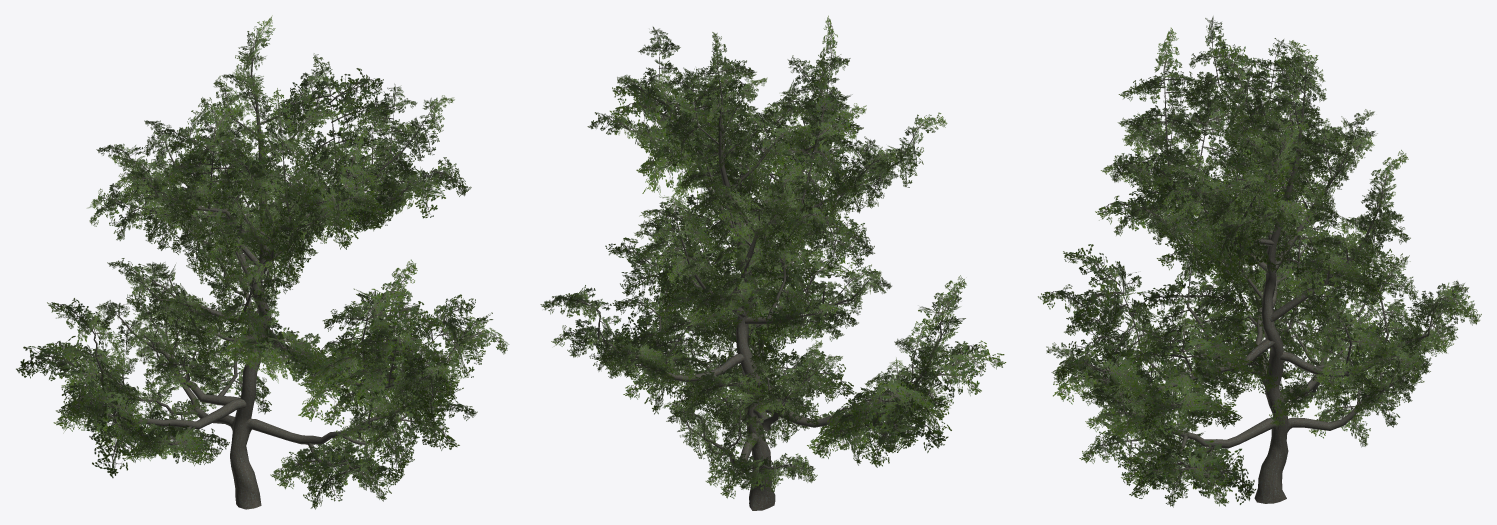
Rendered from TreeBig.glb.
The picture shows the model from 3 angles, left to right: view 1: azimuth 30°, elevation 25°; view 2: azimuth 150°, elevation 25°; view 3: azimuth 270°, elevation 25°; orthographic projection.
Visible parts, largest first — view 1: Large_oak_tree_002_LOD0.005_Cluster_Mat_0, Large_oak_tree_002_LOD0.005_Bark_Mat_0; view 2: Large_oak_tree_002_LOD0.005_Cluster_Mat_0, Large_oak_tree_002_LOD0.005_Bark_Mat_0; view 3: Large_oak_tree_002_LOD0.005_Cluster_Mat_0, Large_oak_tree_002_LOD0.005_Bark_Mat_0.
Part boxes in pixels (box(x1,y1,x2,y2)): Large_oak_tree_002_LOD0.005_Cluster_Mat_0: box(16, 15, 509, 509); Large_oak_tree_002_LOD0.005_Bark_Mat_0: box(77, 45, 470, 509); Large_oak_tree_002_LOD0.005_Cluster_Mat_0: box(540, 15, 1006, 498); Large_oak_tree_002_LOD0.005_Bark_Mat_0: box(587, 48, 944, 510); Large_oak_tree_002_LOD0.005_Cluster_Mat_0: box(1038, 16, 1481, 507); Large_oak_tree_002_LOD0.005_Bark_Mat_0: box(1069, 47, 1448, 503).
Bounding box in the file's own units: 24.51 × 26.99 × 22.78.
2 materials, 2 textured.
